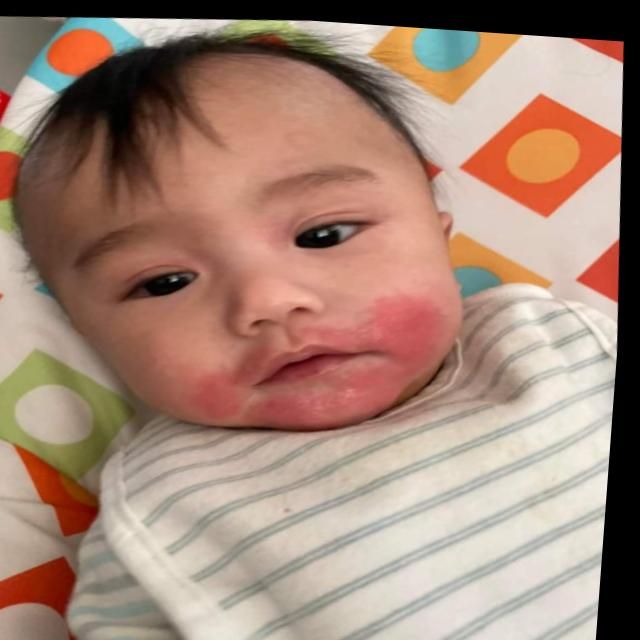Eczema Mild: (203, 304, 438, 440)
